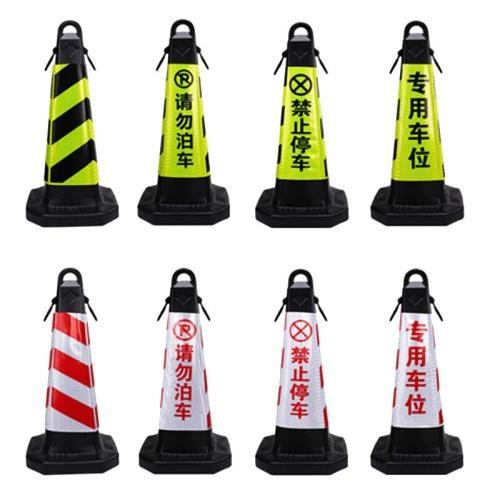cone_barrel: (21, 25, 116, 226), (23, 272, 116, 476), (373, 270, 458, 472), (141, 270, 225, 471), (259, 271, 342, 474), (374, 23, 458, 222), (260, 25, 342, 222), (142, 24, 223, 220)
